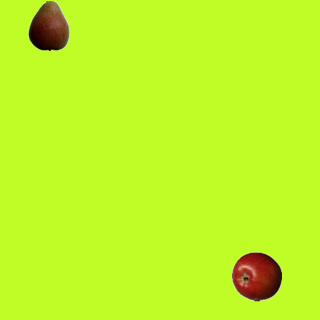Apple Braeburn: (231, 251, 281, 301)
Pear Forelle: (23, 0, 73, 50)
